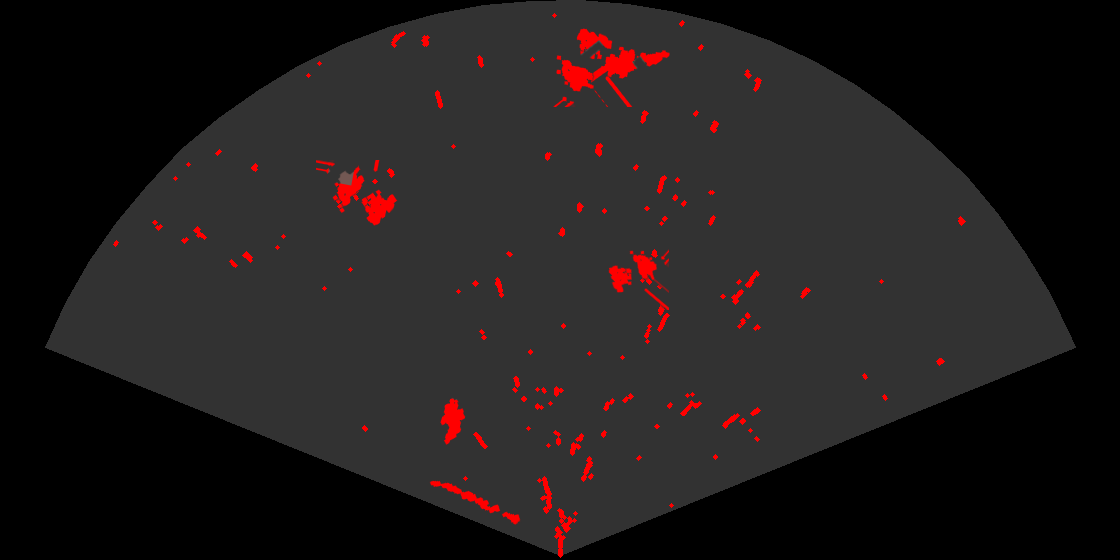AUV: (439, 397, 467, 446)
cage: (552, 27, 634, 107), (316, 160, 399, 227), (607, 248, 669, 310)
chain: (428, 479, 522, 526)
frogman: (591, 45, 671, 84)
